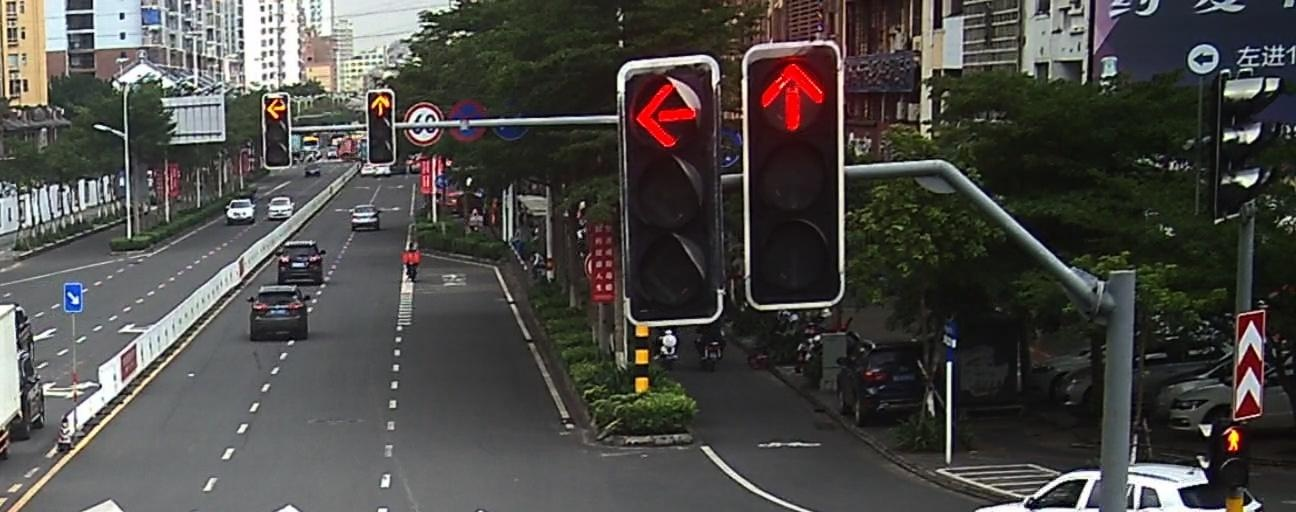redleft: (631, 78, 701, 150), (263, 96, 287, 123)
redpeople: (1219, 423, 1244, 453)
redstraight: (755, 59, 830, 137), (368, 93, 393, 117)
